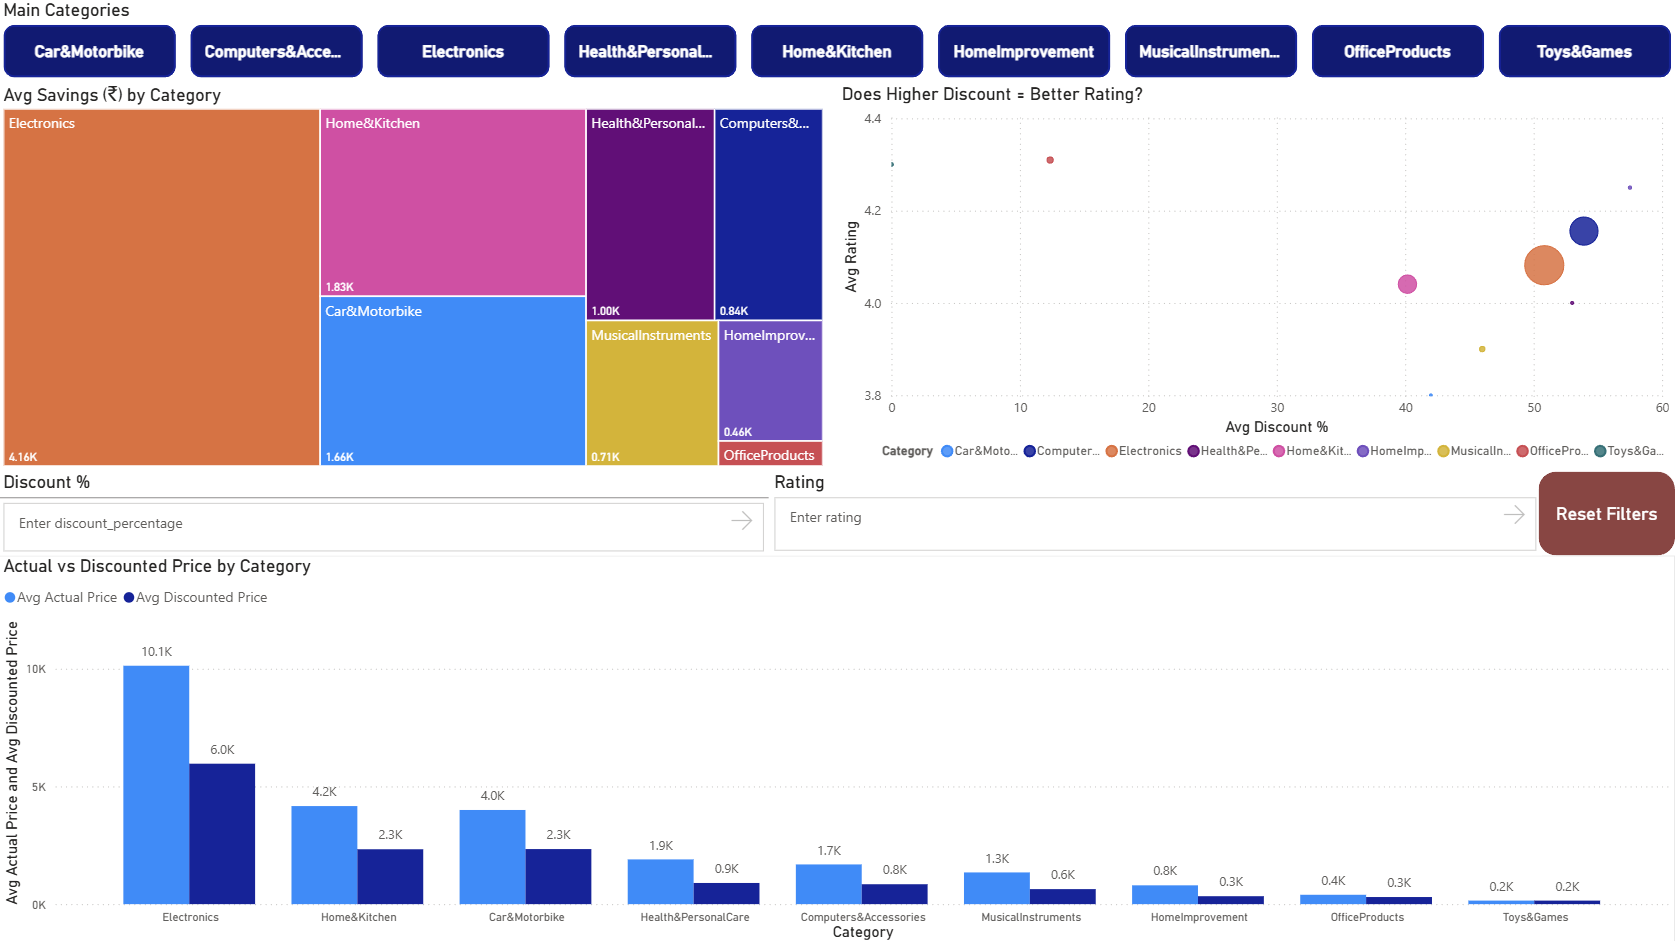

The page's visual inventory and layout, read from the dashboard file:
{"tool":"powerbi","page":{"name":"Pricing & Discounts","canvas":[1600,900],"ordinal":1},"visuals":[{"type":"treemap","title":"Avg Savings (₹) by Category","fields":{"Group":["amazon_cleaned.Main_Category"],"Values":["amazon_cleaned.Avg Savings"]},"box":[0,80.2,790,369.4],"z":0},{"type":"scatterChart","title":"Does Higher Discount = Better Rating?","fields":{"X":["amazon_cleaned.Avg Discount %"],"Y":["amazon_cleaned.Avg Rating"],"Size":["amazon_cleaned.Total Ratings"],"Series":["amazon_cleaned.Main_Category"]},"box":[799.2,80.2,797.9,369.4],"z":1000},{"type":"clusteredColumnChart","title":"Actual vs Discounted Price by Category","fields":{"Category":["amazon_cleaned.Main_Category"],"Y":["amazon_cleaned.Avg Actual Price","amazon_cleaned.Avg Discounted Price"]},"box":[0,529.8,1597.2,370.7],"z":2000},{"type":"advancedSlicerVisual","title":"Main Categories","fields":{"Values":["amazon_cleaned.Main_Category"]},"box":[0,0,1599.5,80],"z":3000},{"type":"textSlicer","title":"Discount %","fields":{"Values":["amazon_cleaned.discount_percentage"]},"box":[0,450,734.3,80],"z":4000},{"type":"textSlicer","title":"Rating","fields":{"Values":["amazon_cleaned.rating"]},"box":[734.3,450,735.7,80],"z":5000},{"type":"actionButton","box":[1467.1,450,130,80],"z":6000}]}

Visuals, with their boxes in screenshot pixels (x1, y1, x2, y2), scaled from the page's 1600x900 canvas onto the 1678x941 screenshot:
"Avg Savings (₹) by Category" treemap: l=0, t=84, r=829, b=470
"Does Higher Discount = Better Rating?" scatterChart: l=838, t=84, r=1675, b=470
"Actual vs Discounted Price by Category" clusteredColumnChart: l=0, t=554, r=1675, b=940
"Main Categories" advancedSlicerVisual: l=0, t=0, r=1677, b=84
"Discount %" textSlicer: l=0, t=470, r=770, b=554
"Rating" textSlicer: l=770, t=470, r=1542, b=554
actionButton: l=1539, t=470, r=1675, b=554
